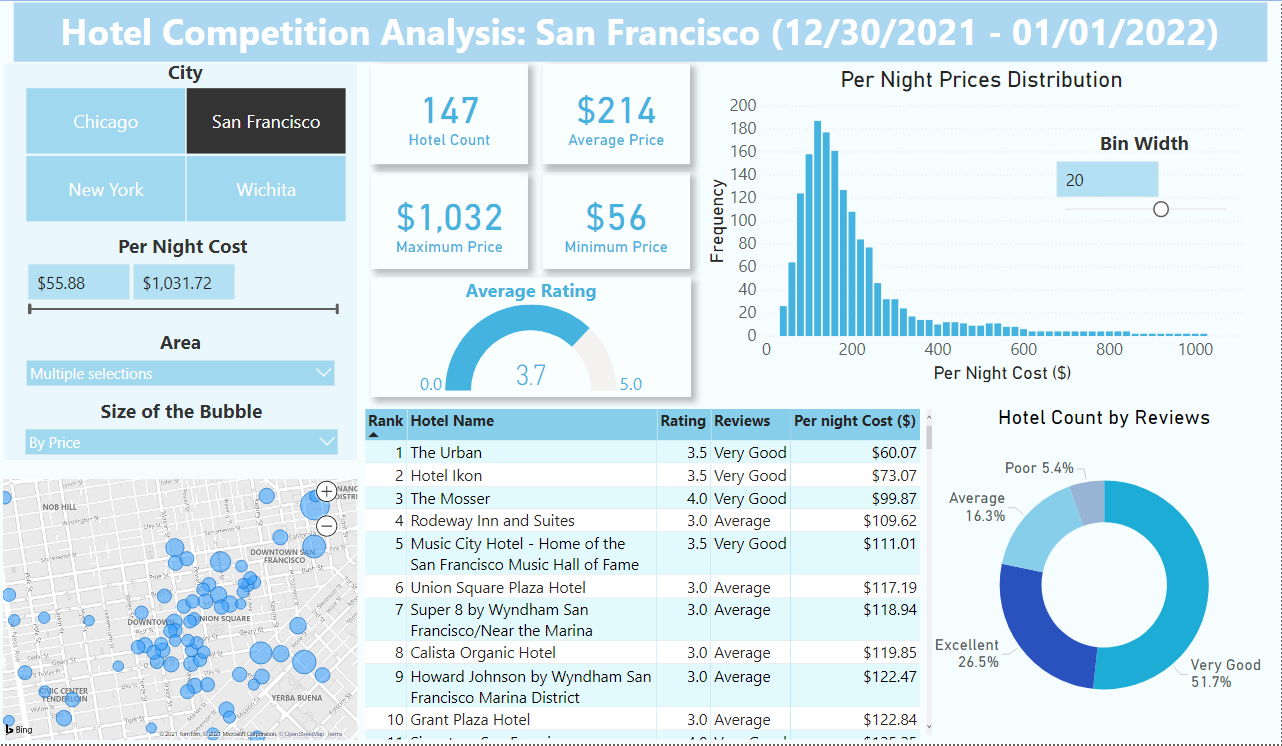

The page's visual inventory and layout, read from the dashboard file:
{"tool":"powerbi","page":{"name":"City level summary","canvas":[2070,1200],"ordinal":2},"visuals":[{"type":"basicShape","box":[0,0,2070.7,101],"z":0},{"type":"card","fields":{"Values":["Hotel_DF.Title"]},"box":[30.3,0,2008.1,92.9],"z":1000},{"type":"card","fields":{"Values":["Hotel_DF.HotelCount"]},"box":[599.8,101.5,252.7,162.9],"z":2000},{"type":"card","fields":{"Values":["Hotel_DF.Lowest Price"]},"box":[876,276.3,238.5,155.8],"z":3000},{"type":"card","fields":{"Values":["Hotel_DF.Max Price"]},"box":[599.8,276.3,252.7,155.8],"z":4000},{"type":"card","fields":{"Values":["Hotel_DF.Average Price"]},"box":[876,101.5,238.5,162.9],"z":5000},{"type":"gauge","title":"Average Rating","fields":{"Y":["Avg(Hotel_DF.Rating)"]},"box":[599.7,446.5,516.6,192.6],"z":6000},{"type":"map","fields":{"Y":["Hotel_DF.lat"],"X":["Hotel_DF.lon"],"Size":["Metrics.Selection"]},"box":[0,768.3,652.3,431.2],"z":7000},{"type":"columnChart","title":"Per Night Prices Distribution","fields":{"Category":["my bins.bin from"],"Y":["my bins._histogram values"]},"box":[1136,105.1,901.8,516.6],"z":8000},{"type":"slicer","title":"Bin Width","fields":{"Values":["Histogram bins.Histogram bins"]},"box":[1694.9,208.1,309.1,155.6],"z":9000},{"type":"donutChart","title":"Hotel Count by Reviews","fields":{"Y":["Hotel_DF.HotelCount"],"Category":["Hotel_DF.Reviews"]},"box":[1537.4,652.5,533.3,545.5],"z":10000},{"type":"basicShape","box":[0,92.3,583.7,656.7],"z":11000},{"type":"slicer","title":"Per Night Cost","fields":{"Values":["Hotel_DF.PerNightCost"]},"box":[31.5,374.1,525.9,175.9],"z":12000},{"type":"slicer","title":"City","fields":{"Values":["Hotel_DF.Area"]},"box":[16.7,92.6,566.7,270.4],"z":13000},{"type":"slicer","title":"Area","fields":{"Values":["Hotel_DF.Location"]},"box":[31.5,529.6,518.5,109.3],"z":14000},{"type":"tableEx","fields":{"Values":["Hotel_DF.Name","Hotel_DF.Rating","Hotel_DF.Reviews","Avg(Hotel_DF.PerNightCost)"]},"box":[652.3,654.5,884.3,545],"z":15000},{"type":"slicer","title":"Size of the Bubble","fields":{"Values":["Metrics.Column1"]},"box":[30,639.5,525.8,128.8],"z":18000}]}

Visuals, with their boxes in screenshot pixels (x1, y1, x2, y2), scaled from the page's 2070x1200 canvas onto the 1282x746 screenshot:
basicShape: <region>0, 0, 1281, 63</region>
card - Hotel_DF.Title: <region>19, 0, 1262, 58</region>
card - Hotel_DF.HotelCount: <region>371, 63, 528, 164</region>
card - Hotel_DF.Lowest Price: <region>543, 172, 690, 269</region>
card - Hotel_DF.Max Price: <region>371, 172, 528, 269</region>
card - Hotel_DF.Average Price: <region>543, 63, 690, 164</region>
"Average Rating" gauge: <region>371, 278, 691, 397</region>
map - Hotel_DF.lat x Hotel_DF.lon: <region>0, 478, 404, 745</region>
"Per Night Prices Distribution" columnChart: <region>704, 65, 1262, 386</region>
"Bin Width" slicer: <region>1050, 129, 1241, 226</region>
"Hotel Count by Reviews" donutChart: <region>952, 406, 1281, 745</region>
basicShape: <region>0, 57, 361, 466</region>
"Per Night Cost" slicer: <region>20, 233, 345, 342</region>
"City" slicer: <region>10, 58, 361, 226</region>
"Area" slicer: <region>20, 329, 341, 397</region>
tableEx - Hotel_DF.Name x Hotel_DF.Rating: <region>404, 407, 952, 745</region>
"Size of the Bubble" slicer: <region>19, 398, 344, 478</region>
